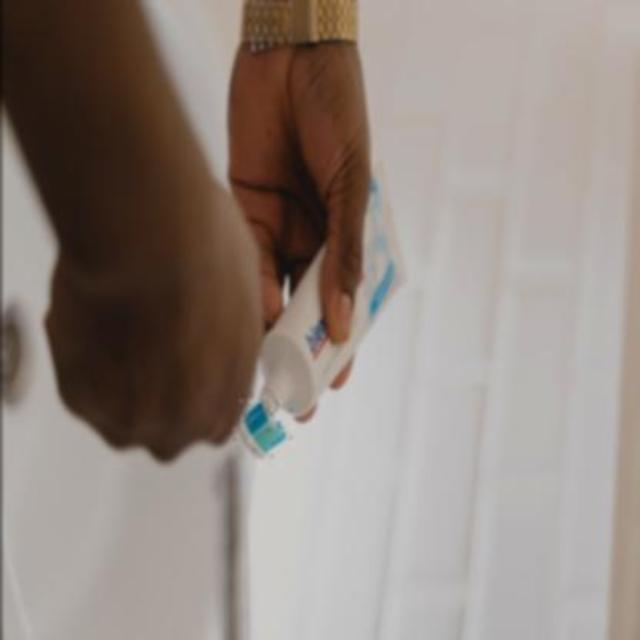toothbrush: (232, 392, 292, 472)
